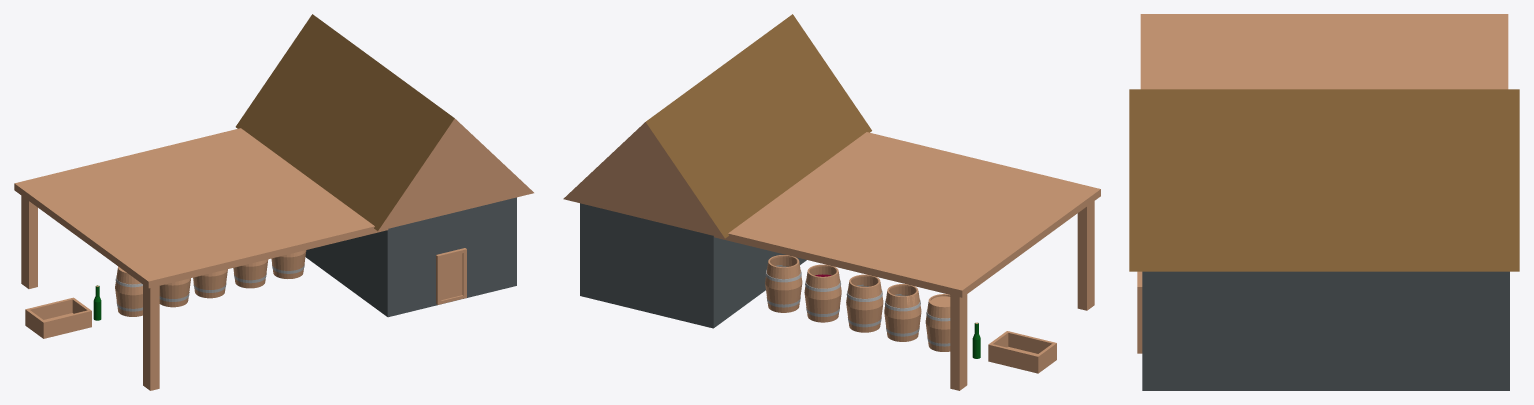
Rendered from Vincourss.fbx.
3 renders of one model, left to right at view 1: azimuth 30°, elevation 25°; view 2: azimuth 150°, elevation 25°; view 3: azimuth 270°, elevation 25°, orthographic. The views are drawn at different scales.
Parts seen in each view (by area): view 1: Крыша с навесом.001, Крыша с навесом, Корзинка, Дверь.001, Корзинка.001, Полная бочка, Пустая бочка, Половина бочка, Закуп Бочка, Треть Бочка, Закуп Бочка.001; view 2: Крыша с навесом, Крыша с навесом.001, Корзинка, Треть Бочка, Пустая бочка, Половина бочка, Закуп Бочка, Полная бочка, Полная бочка.001, Половина бочка.001, Корзинка.001, Пустая бочка.001 (+2 smaller); view 3: Крыша с навесом, Крыша с навесом.001, Дверь.
Boxes of the visible parts, x1,y1,x2,y2 form: Крыша с навесом.001: (16, 14, 533, 390); Крыша с навесом: (14, 15, 509, 385); Корзинка: (25, 297, 91, 337); Дверь.001: (436, 248, 466, 304); Корзинка.001: (26, 300, 91, 338); Полная бочка: (233, 259, 268, 288); Пустая бочка: (271, 250, 306, 278); Половина бочка: (193, 269, 227, 298); Закуп Бочка: (116, 266, 142, 315); Треть Бочка: (159, 278, 190, 307); Закуп Бочка.001: (115, 268, 142, 316); Крыша с навесом: (563, 28, 1100, 390); Крыша с навесом.001: (605, 14, 1100, 345); Корзинка: (988, 331, 1056, 373); Треть Бочка: (884, 284, 921, 341); Пустая бочка: (765, 255, 801, 312); Половина бочка: (846, 275, 882, 332); Закуп Бочка: (925, 294, 950, 351); Полная бочка: (805, 266, 840, 322); Полная бочка.001: (804, 264, 841, 322); Половина бочка.001: (846, 274, 883, 323); Корзинка.001: (988, 331, 1048, 372); Пустая бочка.001: (765, 255, 802, 303); Крыша с навесом: (1129, 14, 1519, 390); Крыша с навесом.001: (1129, 14, 1519, 390); Дверь: (1137, 287, 1142, 353).
Size of the model in its own units: 2638 by 1247 by 1575.
